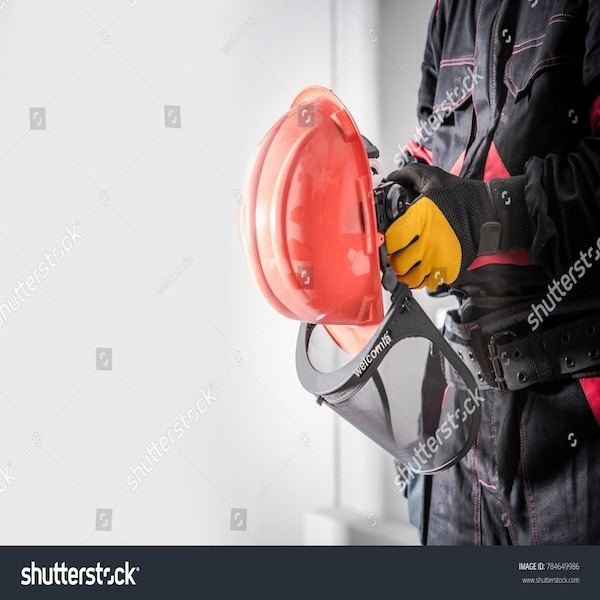helmet: (242, 86, 383, 322)
